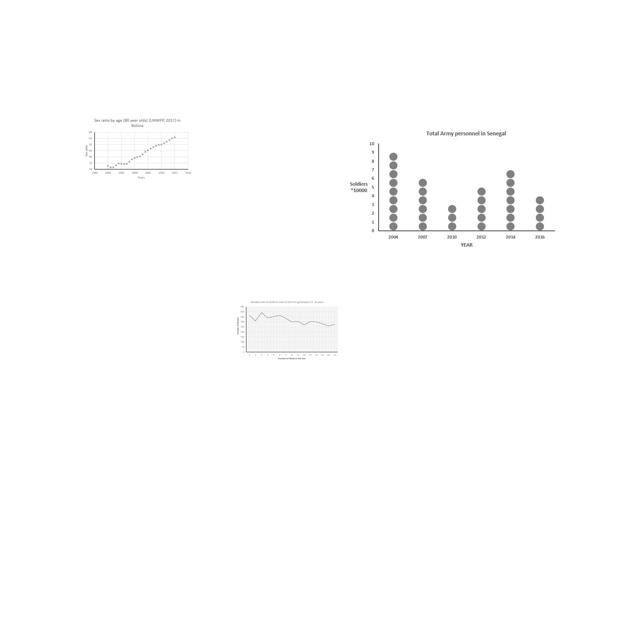Graph: (342, 126, 560, 253), (82, 116, 194, 182), (234, 299, 340, 363)
